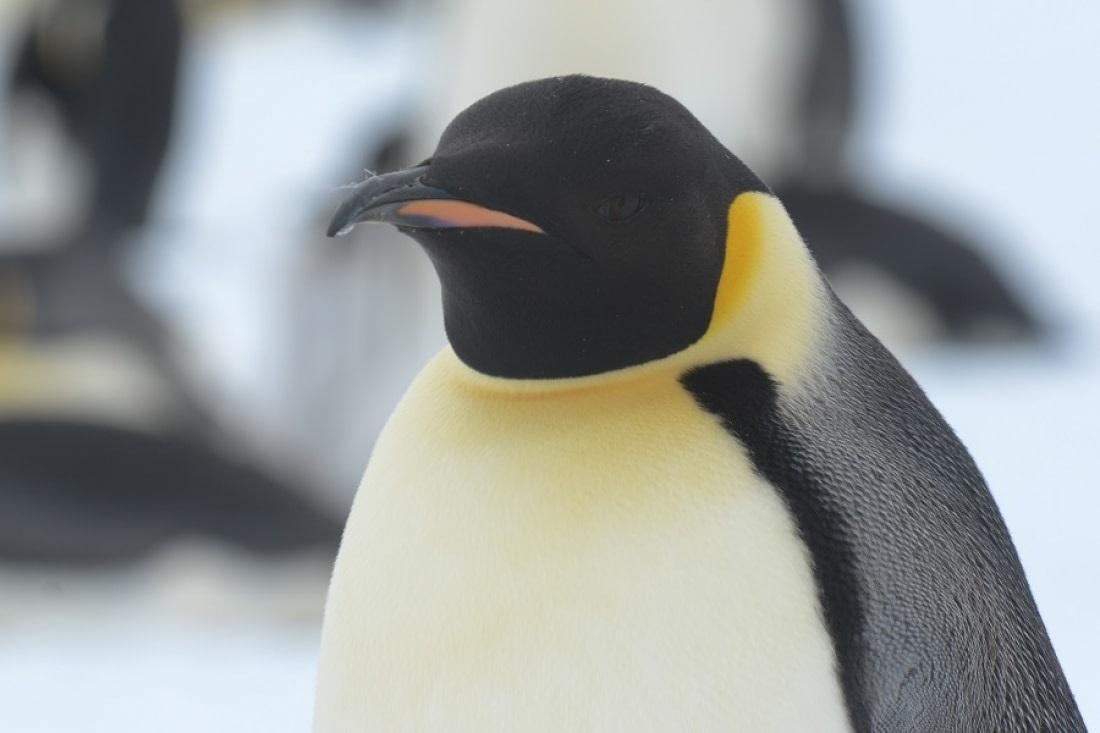emporer: (280, 65, 1100, 733)
